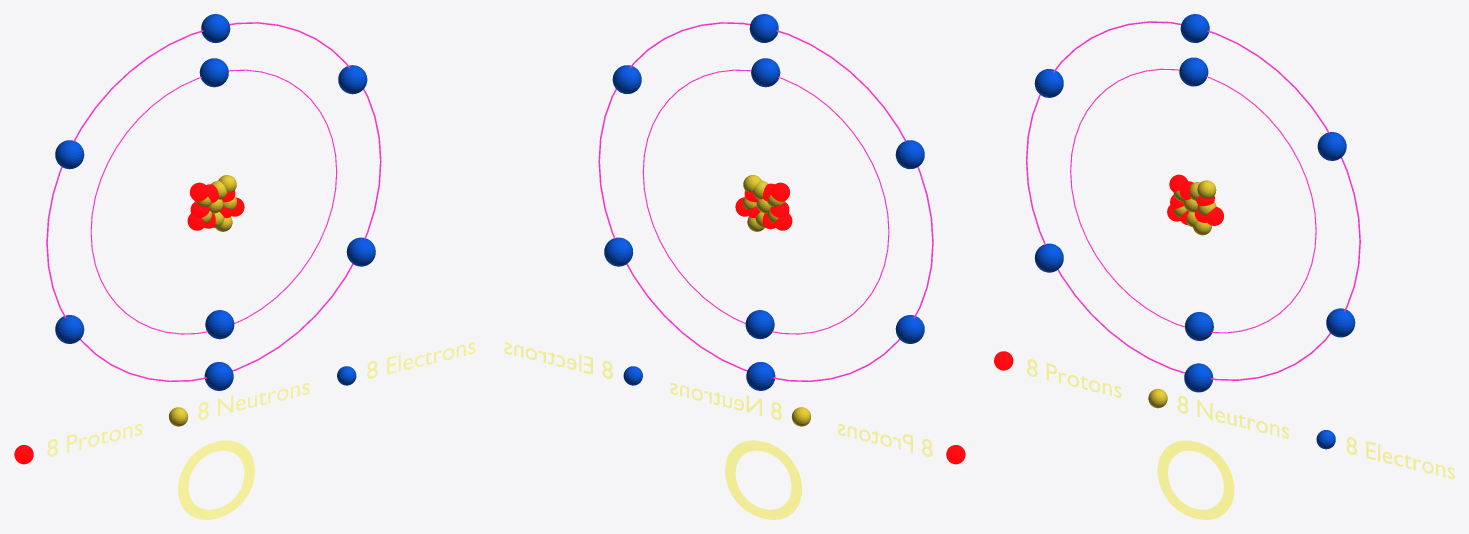
The model's file is oxygen.glb.
3 renders of one model, left to right at view 1: azimuth 30°, elevation 25°; view 2: azimuth 150°, elevation 25°; view 3: azimuth 330°, elevation 25°, orthographic.
Visible parts, largest first — view 1: Text, BézierCircle.001, BézierCircle, Text.003, Text.002, Sphere.001, Sphere.016, Sphere.020, Sphere.022, Sphere.002, Sphere.009, Sphere.026 (+2 smaller); view 2: Text, BézierCircle.001, BézierCircle, Text.003, Text.002, Sphere.001, Sphere.016, Sphere.022, Sphere.002, Sphere.020, Sphere.026, Sphere.009 (+2 smaller); view 3: Text, BézierCircle.001, BézierCircle, Text.003, Text.002, Sphere.016, Sphere.020, Sphere.026, Sphere.002, Sphere.009, Sphere.015, Sphere.022 (+2 smaller).
Part boxes in pixels (box(x1,y1,x2,y2)): Text: box(178, 440, 254, 519); BézierCircle.001: box(46, 22, 381, 381); BézierCircle: box(90, 69, 337, 334); Text.003: box(367, 342, 475, 378); Text.002: box(198, 383, 309, 419); Sphere.001: box(205, 310, 234, 339); Sphere.016: box(346, 237, 375, 266); Sphere.020: box(204, 362, 233, 390); Sphere.022: box(55, 140, 84, 169); Sphere.002: box(199, 58, 228, 87); Sphere.009: box(55, 315, 84, 343); Sphere.026: box(338, 65, 367, 94); Text: box(725, 440, 801, 519); BézierCircle.001: box(598, 22, 933, 381); BézierCircle: box(642, 69, 889, 334); Text.003: box(504, 342, 612, 378); Text.002: box(670, 383, 781, 419); Sphere.001: box(745, 310, 774, 339); Sphere.016: box(604, 237, 633, 266); Sphere.022: box(895, 140, 924, 169); Sphere.002: box(751, 58, 780, 87); Sphere.020: box(746, 362, 775, 390); Sphere.026: box(612, 65, 641, 93); Sphere.009: box(895, 315, 924, 343); Text: box(1157, 440, 1234, 519); BézierCircle.001: box(1026, 21, 1360, 380); BézierCircle: box(1070, 68, 1316, 333); Text.003: box(1346, 437, 1454, 479); Text.002: box(1177, 396, 1288, 438); Sphere.016: box(1326, 308, 1355, 337); Sphere.020: box(1184, 363, 1213, 392); Sphere.026: box(1317, 132, 1346, 160); Sphere.002: box(1179, 57, 1208, 86); Sphere.009: box(1034, 243, 1063, 272); Sphere.015: box(1180, 14, 1209, 42); Sphere.022: box(1034, 69, 1063, 97).
Size of the model in its own units: 4.37 by 4.58 by 0.2395.
